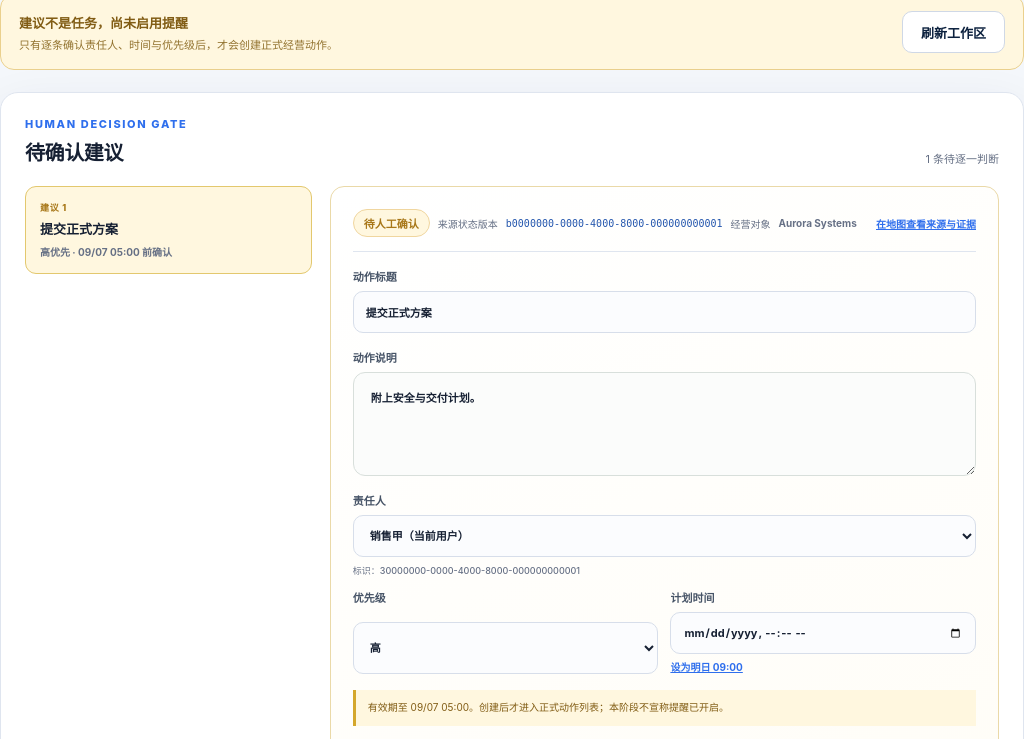
Test case: ActionWorkspace › offers an explicit plan-time shortcut when the analyzer did not suggest one
Expected: the heading "待确认建议" is shown, [25,141,123,165]
Click the button "设为明日 09:00" at point(707, 666), box [670,659,743,674]
(page scrolled)
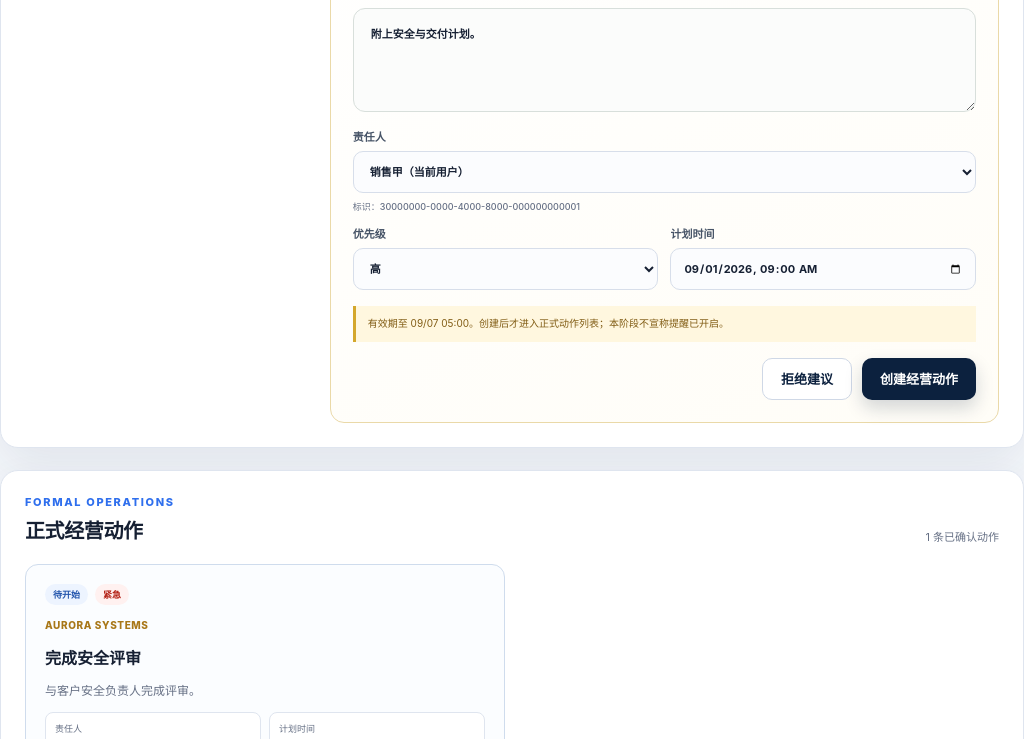
Now the field labelled "计划时间" is not empty, box [670,248,976,290]
Now the button "创建经营动作" is enabled, box [862,358,976,400]
